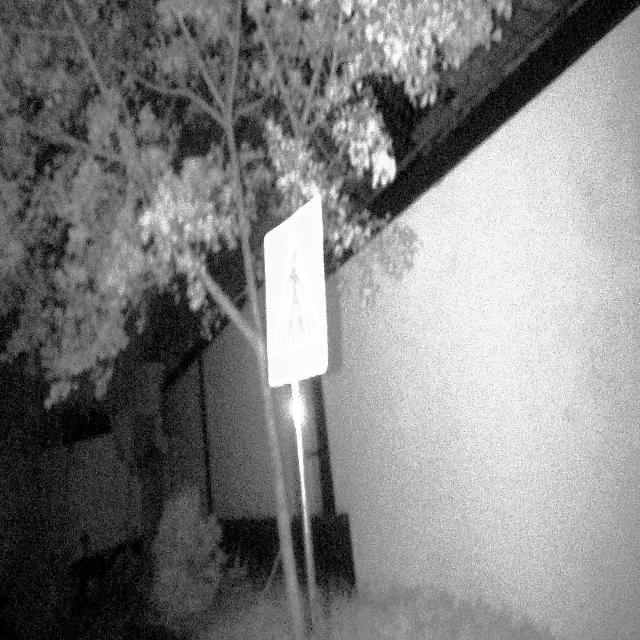Sign: (261, 192, 331, 391)
